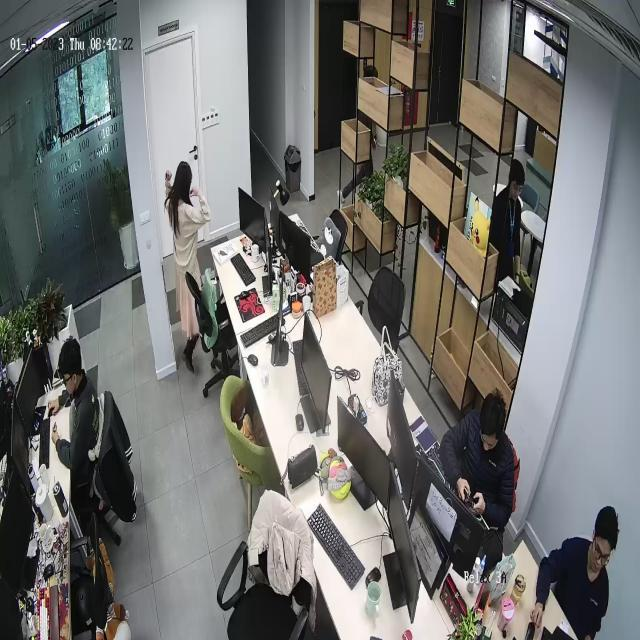person: (524, 506, 620, 640), (438, 389, 515, 535), (165, 161, 213, 371), (47, 337, 102, 483)
